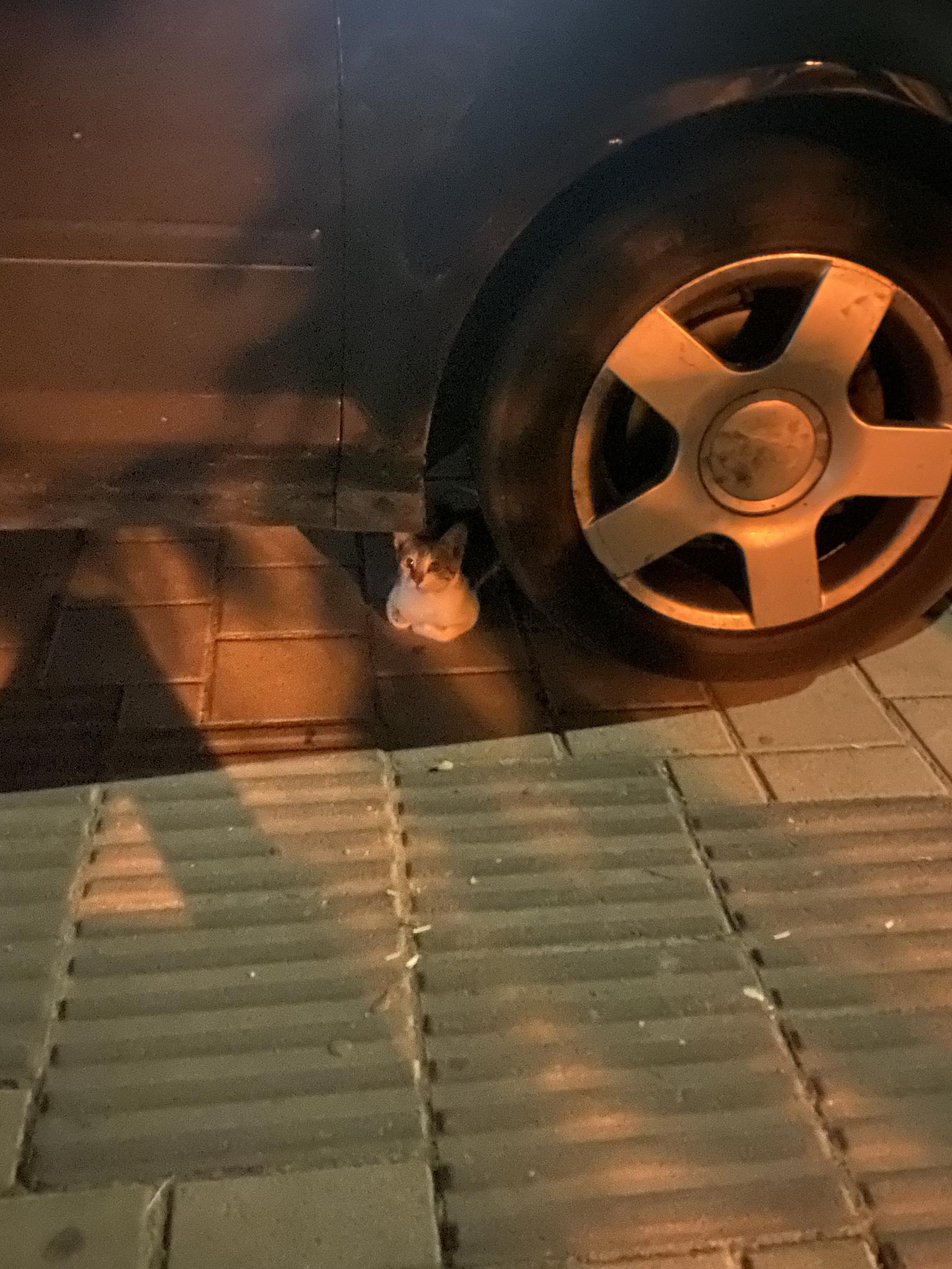macka: (388, 506, 516, 643)
